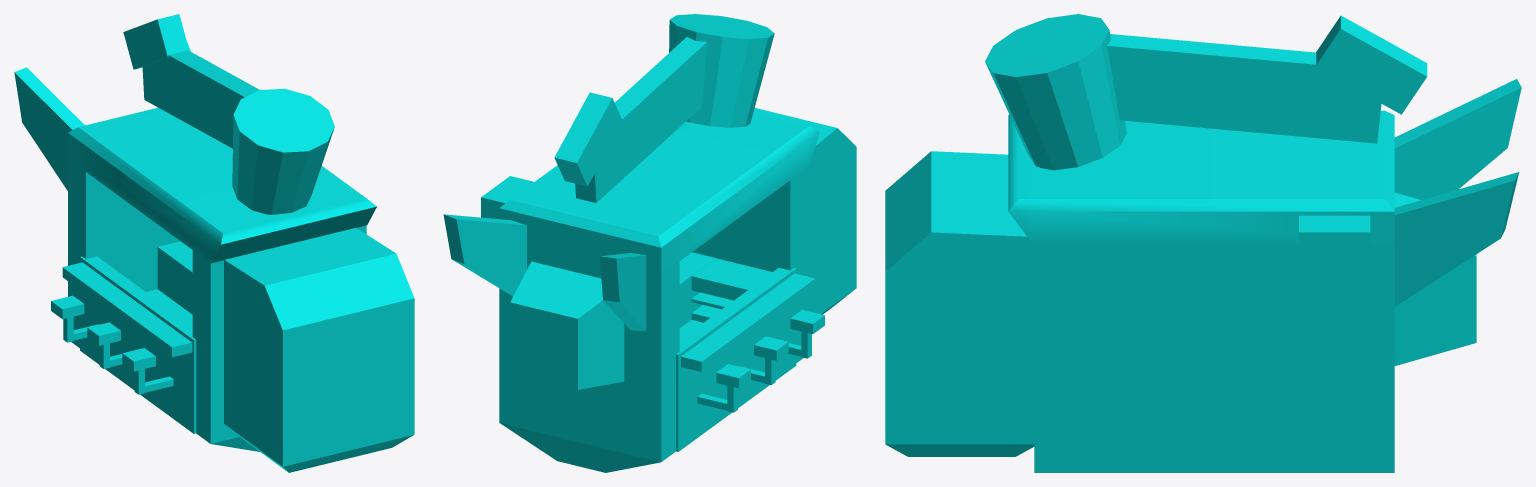
Rendered from SM_Veh_Food_Truck_01_Collision.fbx.
3 views of the same model, side by side, from view 1: azimuth 30°, elevation 25°; view 2: azimuth 150°, elevation 25°; view 3: azimuth 270°, elevation 25° (orthographic). The views are drawn at different scales.
Parts seen in each view (by area): view 1: SM_Veh_Food_Truck_01_Collision; view 2: SM_Veh_Food_Truck_01_Collision; view 3: SM_Veh_Food_Truck_01_Collision.
Part boxes in pixels (x1,y1,x2,y2): SM_Veh_Food_Truck_01_Collision: [14, 14, 414, 472]; SM_Veh_Food_Truck_01_Collision: [443, 14, 856, 472]; SM_Veh_Food_Truck_01_Collision: [885, 14, 1521, 472].
Size of the model in its own units: 482 by 690 by 916.
